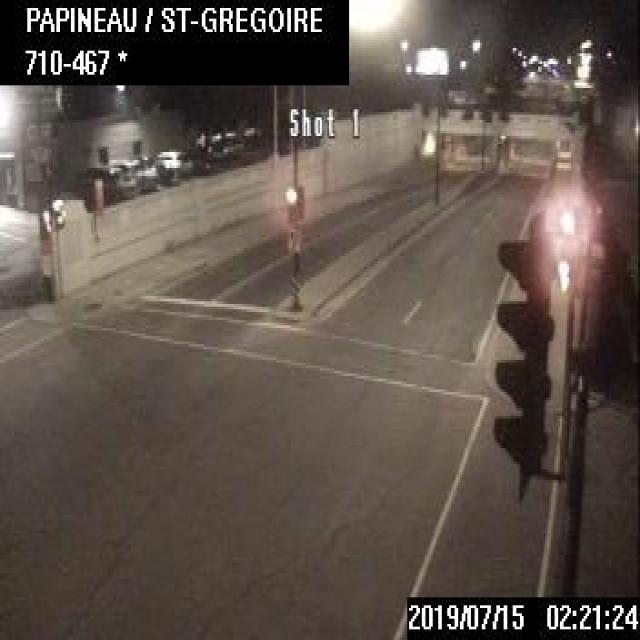vehicle: (156, 149, 192, 179)
